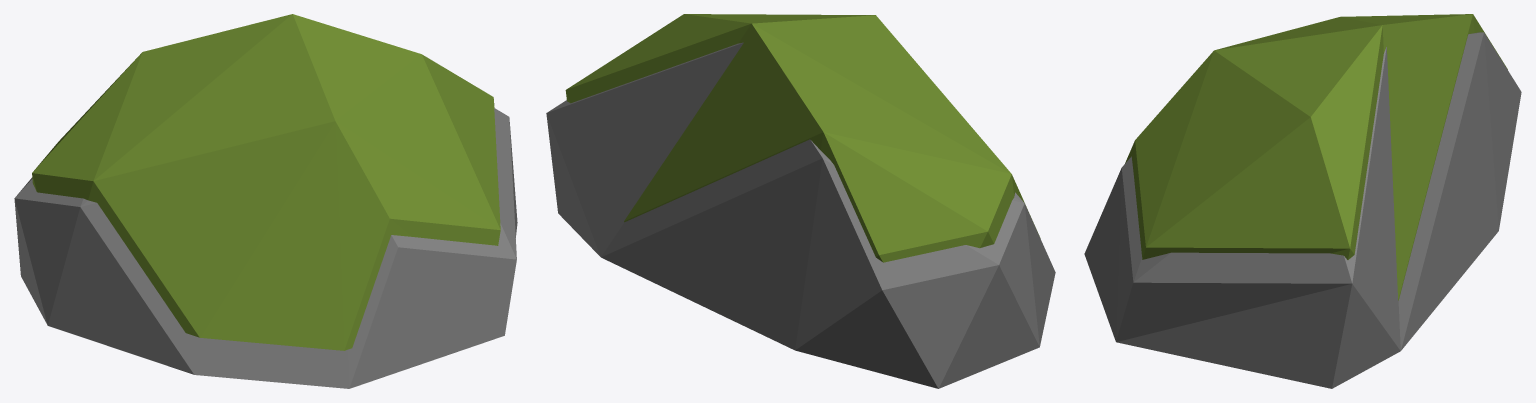
Rendered from Stone_1_moss_mat.fbx.
3 renders of one model, left to right at view 1: azimuth 30°, elevation 25°; view 2: azimuth 150°, elevation 25°; view 3: azimuth 270°, elevation 25°, orthographic. The views are drawn at different scales.
Visible parts, largest first — view 1: Stone_1_moss_mat; view 2: Stone_1_moss_mat; view 3: Stone_1_moss_mat.
Boxes of the visible parts, x1,y1,x2,y2 form: Stone_1_moss_mat: (14,14,517,388); Stone_1_moss_mat: (546,14,1055,388); Stone_1_moss_mat: (1084,14,1521,388).
Size of the model in its own units: 51.15 by 27.07 by 39.42.
